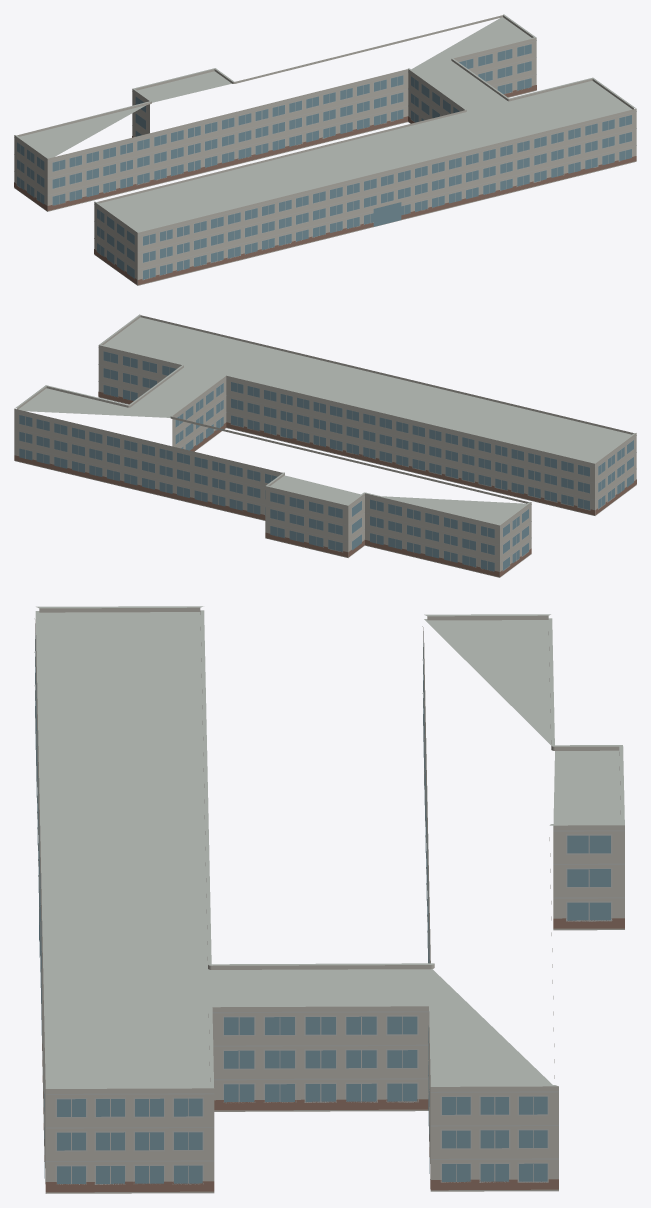
File: public-bff714cf-a5a3-46e1-b1be-d59e43595d0f.glb
3 renders of one model, top to bottom at view 1: azimuth 30°, elevation 25°; view 2: azimuth 150°, elevation 25°; view 3: azimuth 270°, elevation 25°, orthographic. The views are drawn at different scales.
Parts seen in each view (by area): view 1: public-bff714cf-a5a3-46e1-b1be-d59e43595d0f; view 2: public-bff714cf-a5a3-46e1-b1be-d59e43595d0f; view 3: public-bff714cf-a5a3-46e1-b1be-d59e43595d0f.
Part boxes in pixels (<box>): public-bff714cf-a5a3-46e1-b1be-d59e43595d0f: <box>14,14,636,285</box>; public-bff714cf-a5a3-46e1-b1be-d59e43595d0f: <box>14,314,636,577</box>; public-bff714cf-a5a3-46e1-b1be-d59e43595d0f: <box>34,606,624,1193</box>.
Size of the model in its own units: 90.59 by 9.15 by 47.55.
